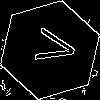V: (25, 25, 78, 68)
